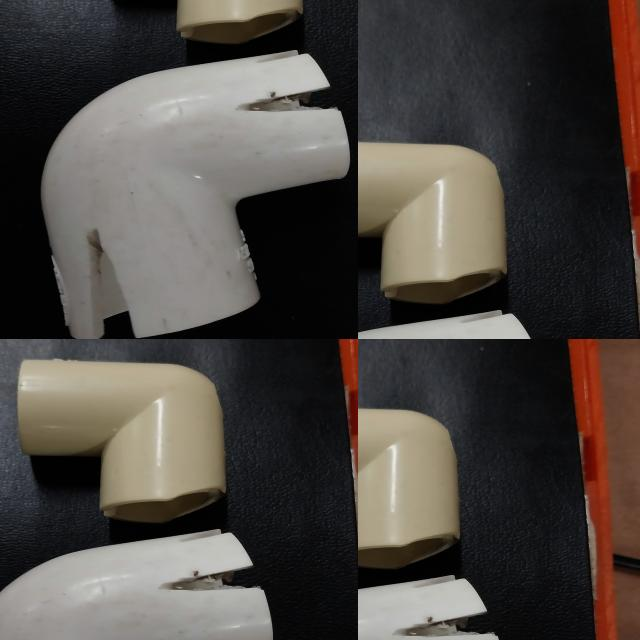Defective: (390, 611, 497, 640), (619, 554, 640, 586)
L Joint: (358, 406, 467, 570)
